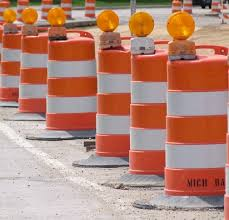barrel: (165, 43, 229, 194), (128, 39, 177, 171), (45, 34, 96, 130), (97, 46, 136, 152), (18, 36, 54, 112), (1, 33, 25, 99)
